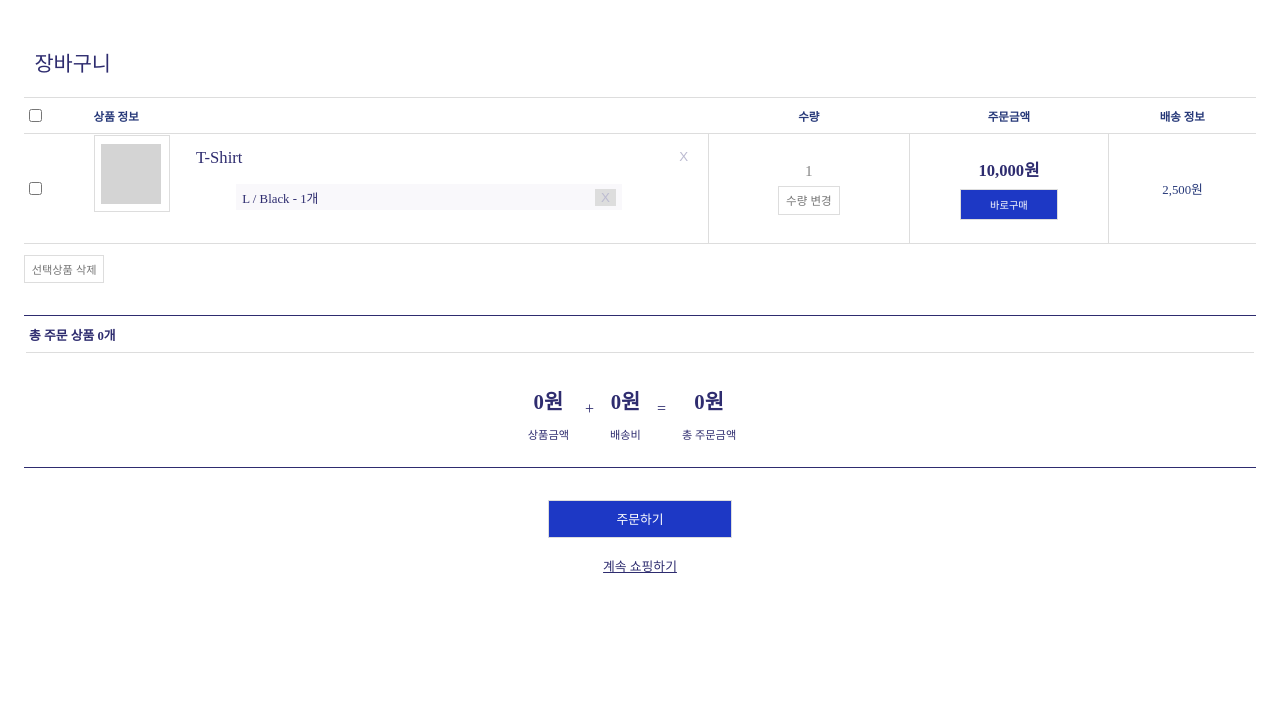
it: Cart › 체크박스 › 전체 선택을 체크했을 경우 › 모든 아이템의 체크박스가 선택된 것을 볼 수 있다
Click the checkbox named "전체선택" next to "상품 정보": {"x": 36, "y": 116} [29,109,42,122]
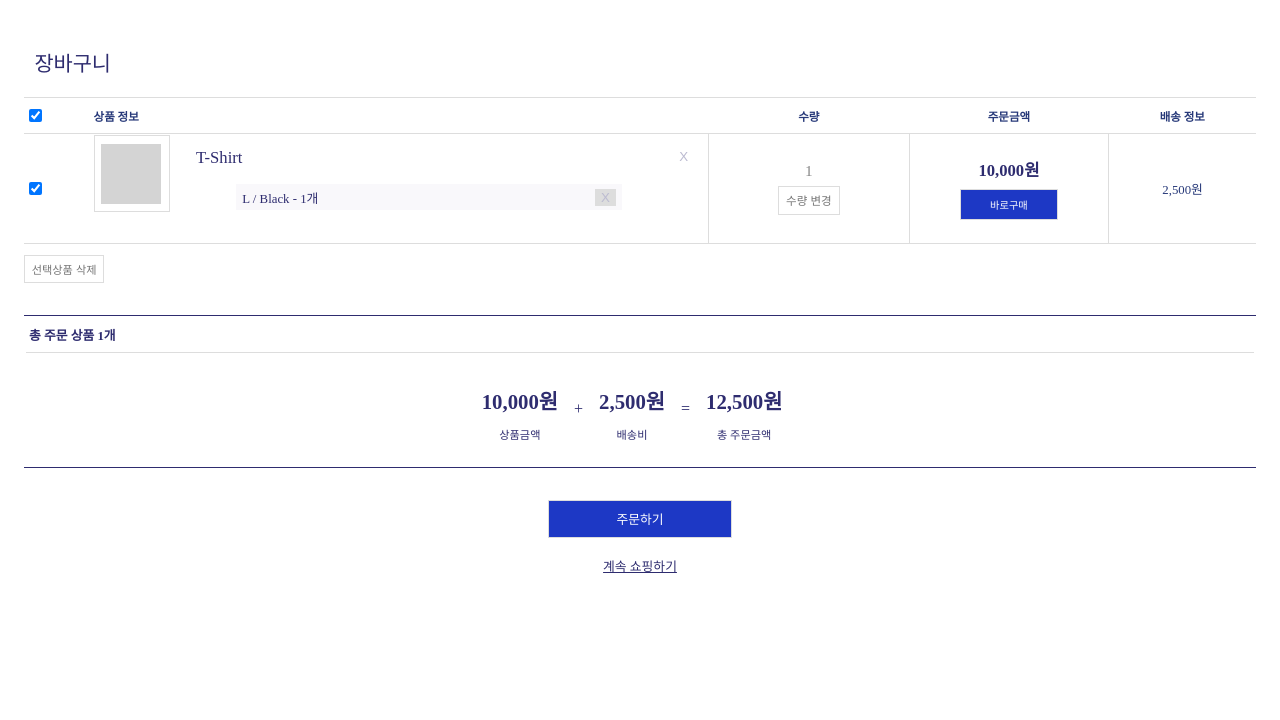
Expected: the checkbox named "전체선택" next to "상품 정보" is checked, [29,109,42,122]
Expected: the checkbox named "T-Shirt" below "T-Shirt" is checked, [29,182,42,195]
Expected: the column heading "총 주문 상품 1개" is shown, [28,324,117,345]
